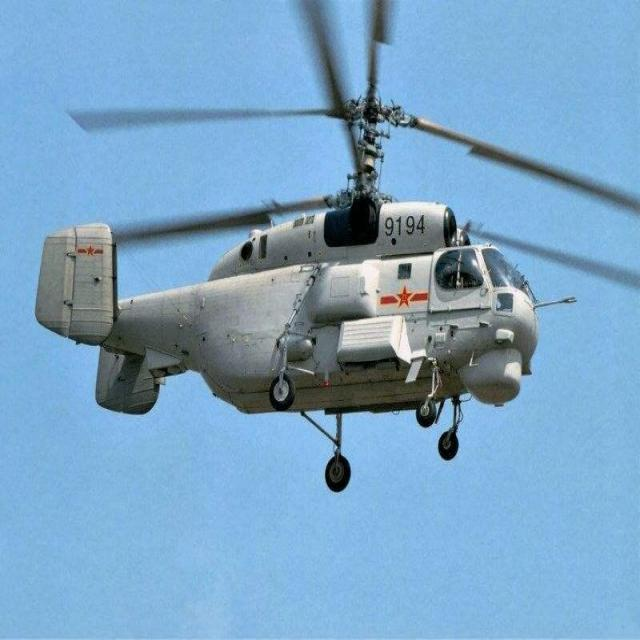MIL_HELO: (19, 45, 640, 494)
